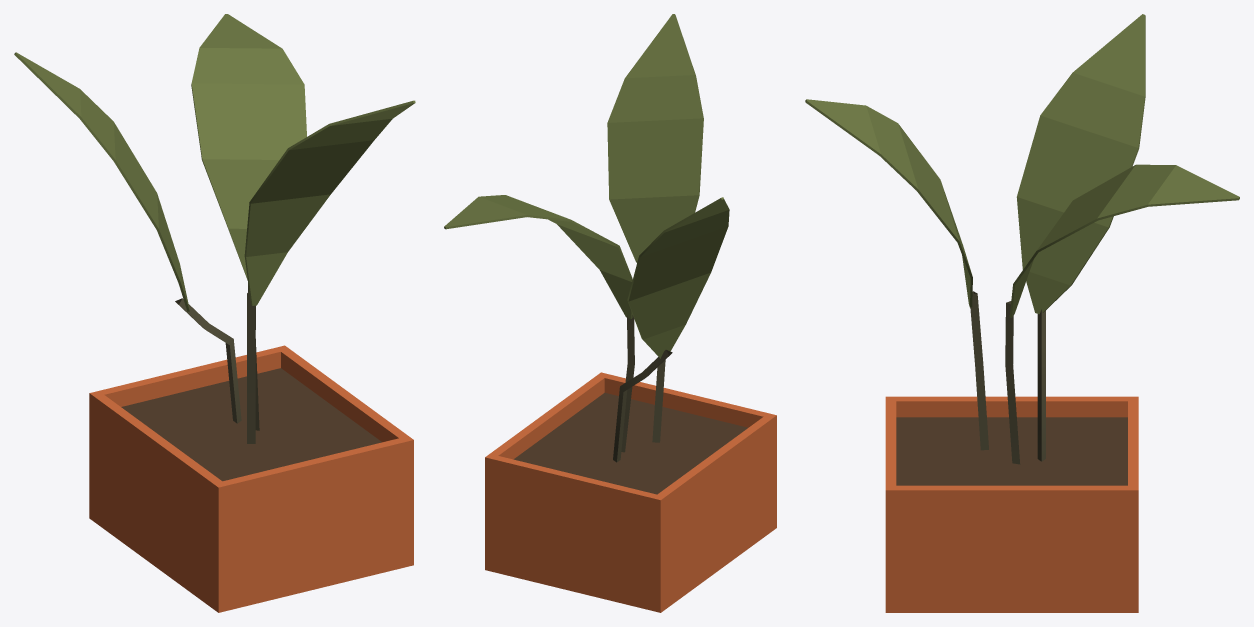
Rendered from SM_plantpot_03.fbx.
3 views of the same model, side by side, from view 1: azimuth 30°, elevation 25°; view 2: azimuth 150°, elevation 25°; view 3: azimuth 270°, elevation 25° (orthographic). The views are drawn at different scales.
Parts seen in each view (by area): view 1: Box061; view 2: Box061; view 3: Box061.
Boxes of the visible parts, left/top/right/bottom form: Box061: left=14, top=14, right=415, bottom=612; Box061: left=444, top=14, right=776, bottom=612; Box061: left=805, top=14, right=1239, bottom=612.
Size of the model in its own units: 25.88 by 36.76 by 46.08.
